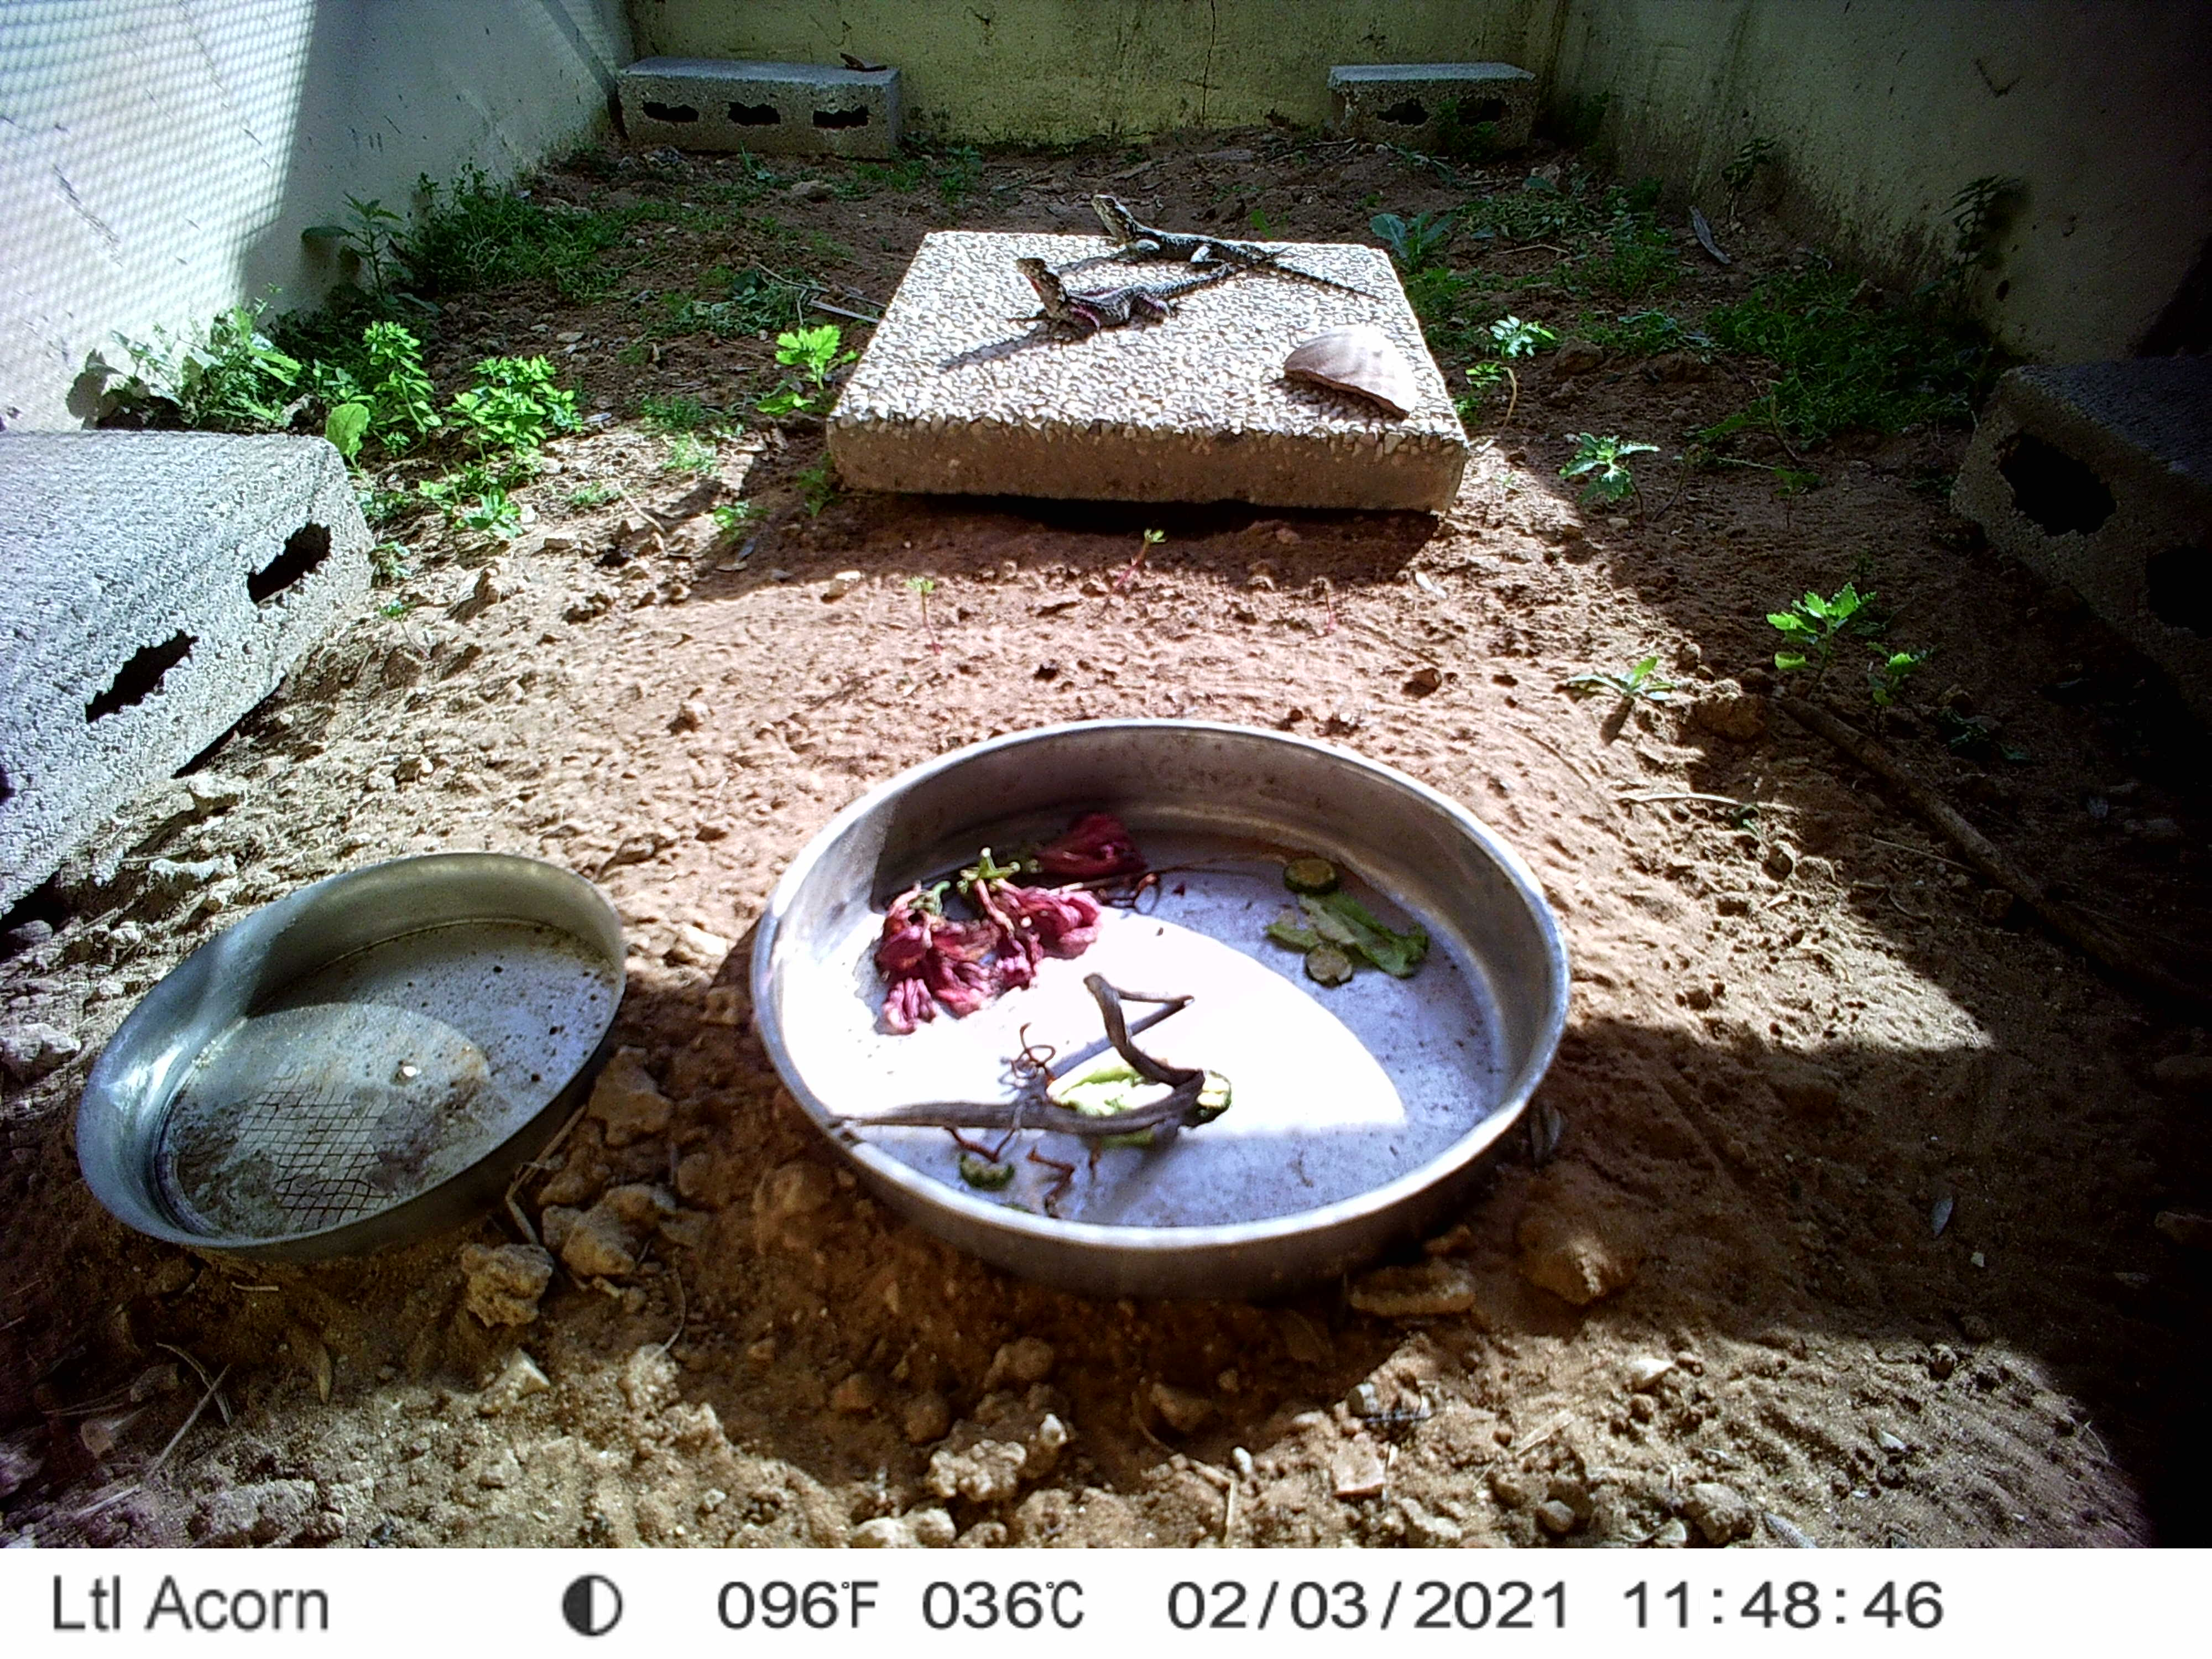lizard: (1087, 192, 1376, 295), (1014, 253, 1223, 336)
